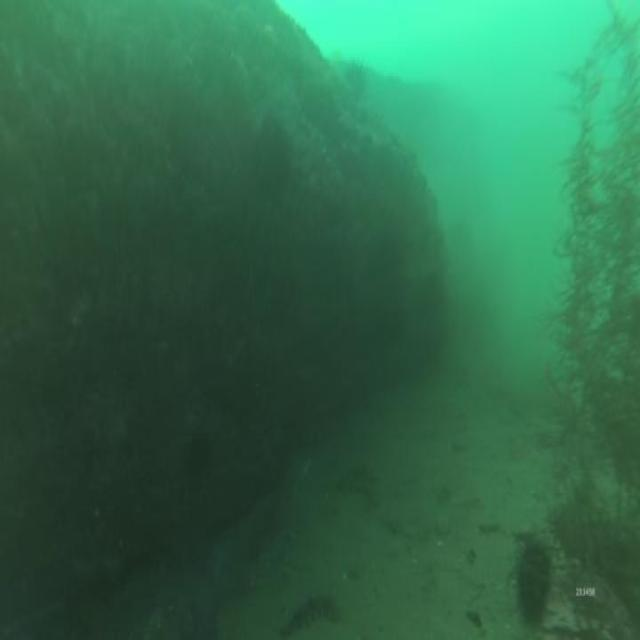echinus: (505, 528, 555, 634)
holothurian: (277, 589, 343, 637), (336, 458, 380, 509)
waterweeds: (553, 12, 640, 574)
